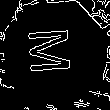M_E: (29, 28, 82, 78)
